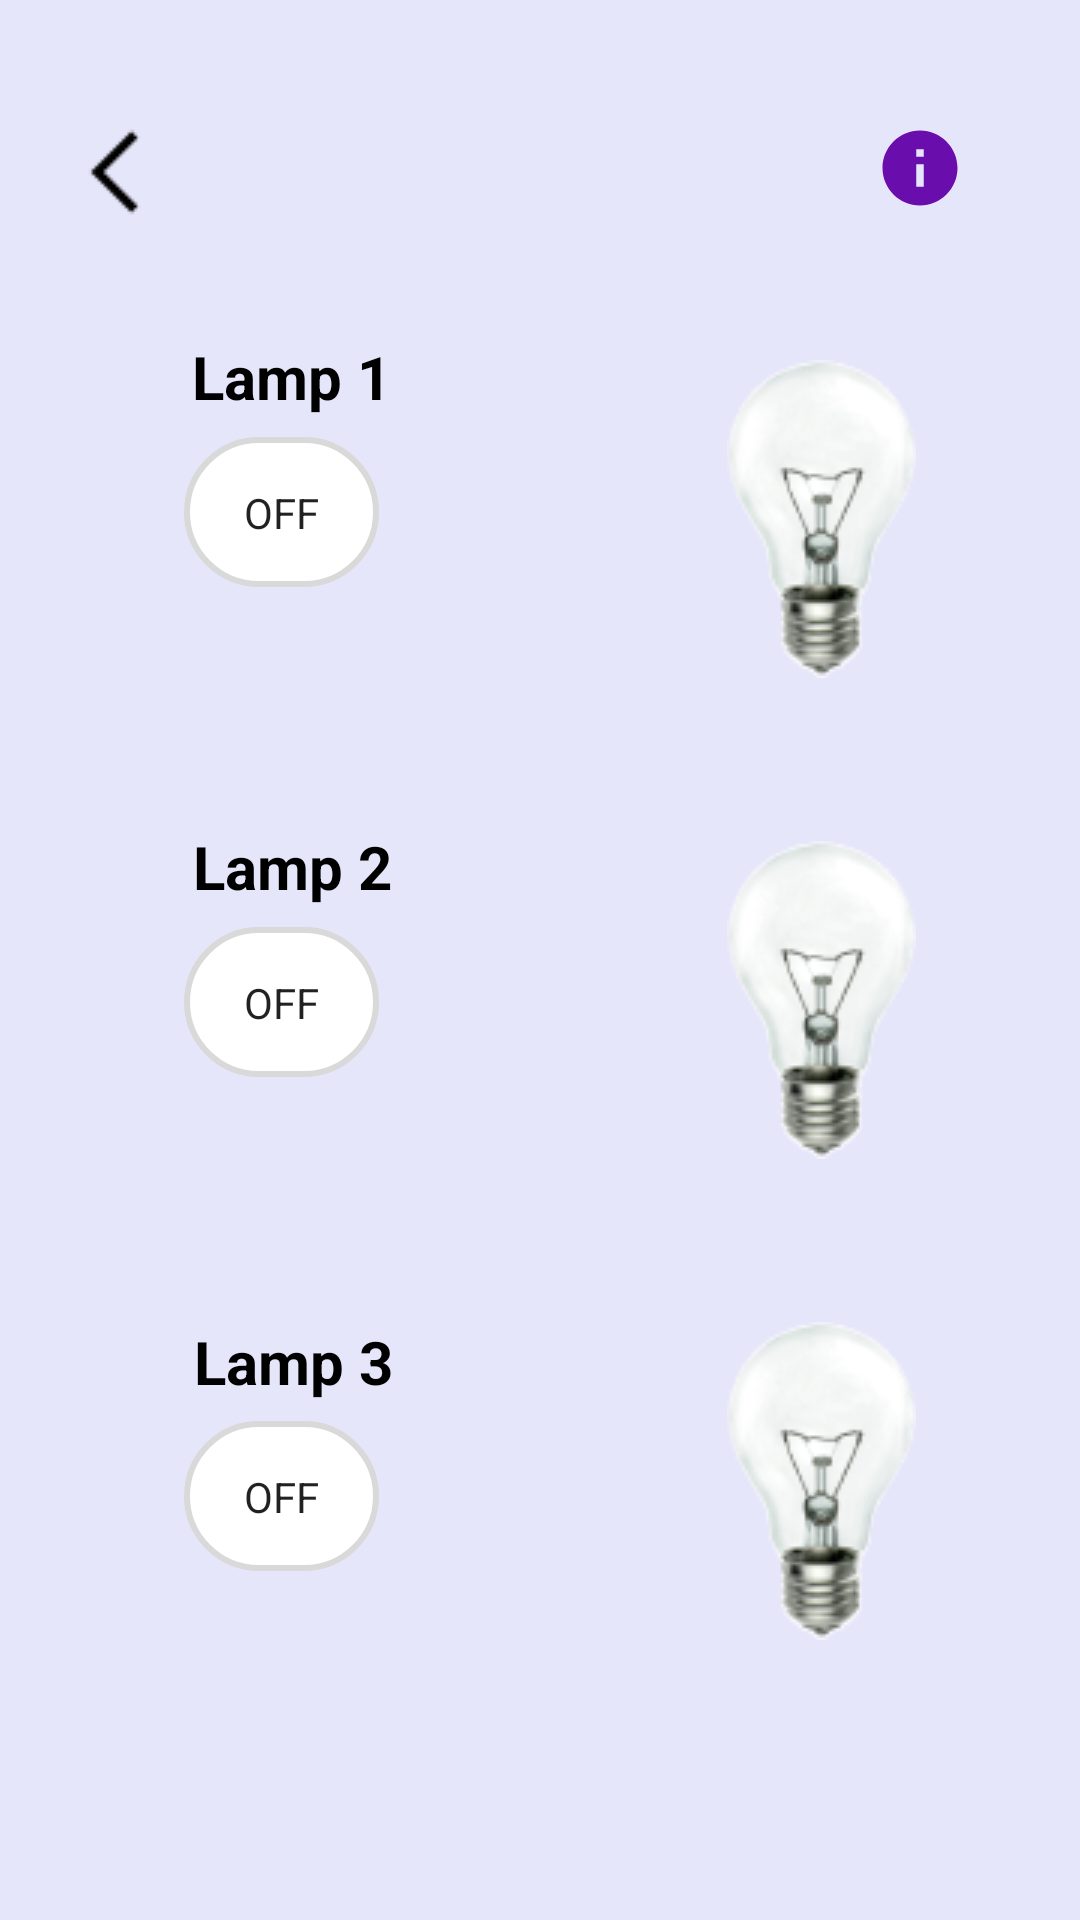

Named icons in this screenshot (1080x1920) and their centers, (x=x, y=y):
back: (x=114, y=172)
info: (x=920, y=168)
lamp: (x=822, y=521), (x=822, y=1002), (x=822, y=1483)
